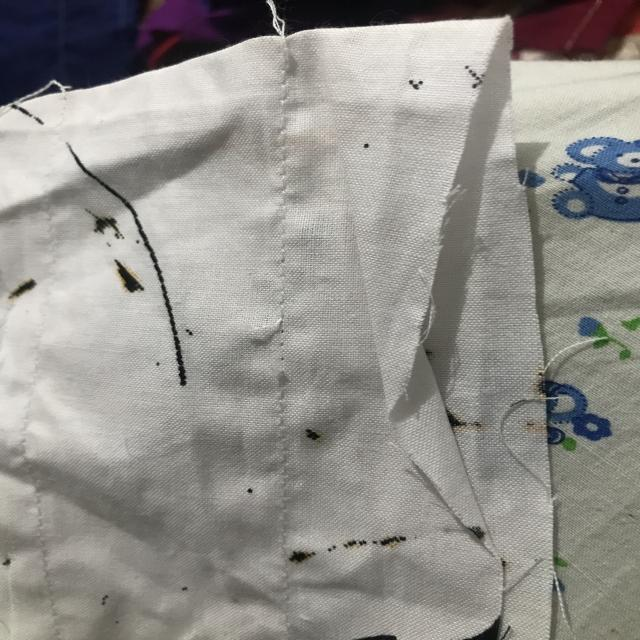broken: (245, 314, 312, 397)
